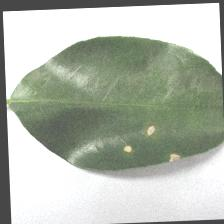canker: (119, 110, 204, 193)
